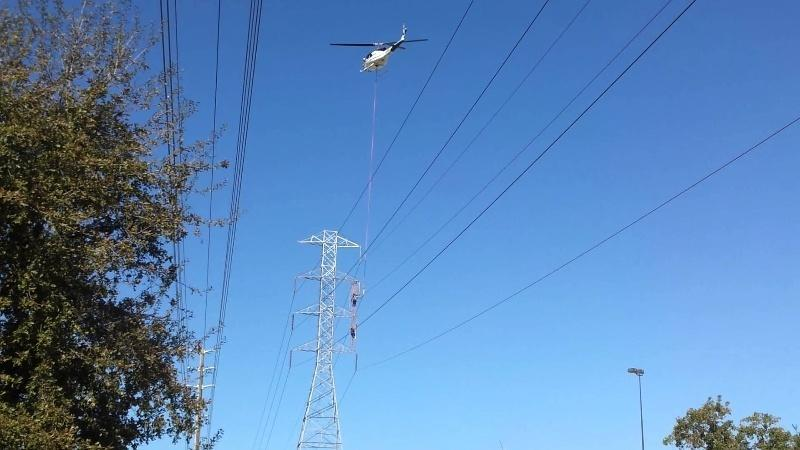power_tower: (279, 220, 363, 438)
